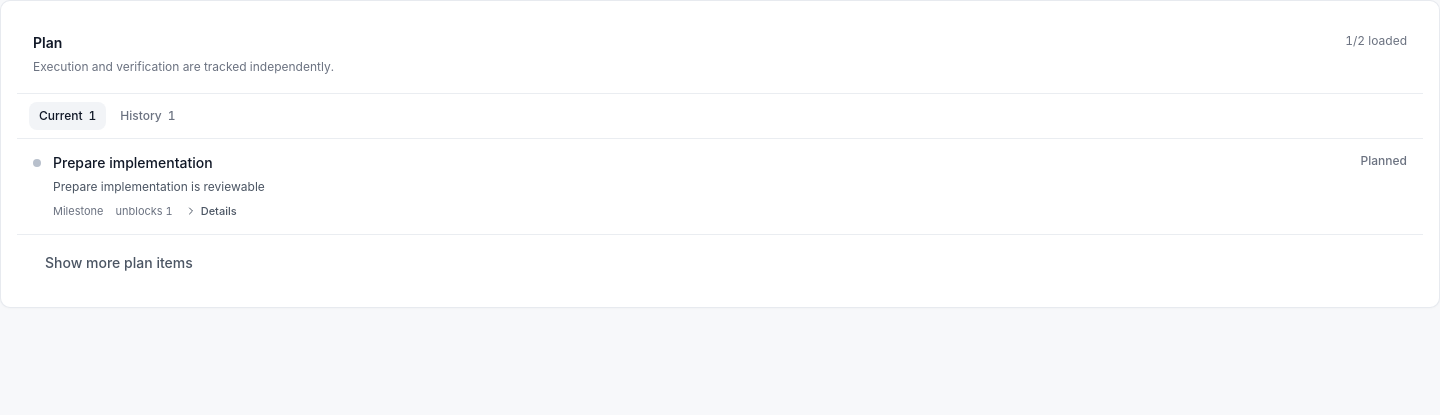
it: loads the exact pinned continuation and exposes dependency identities
Click the button "Show more plan items": (119, 262) [33, 246, 205, 278]
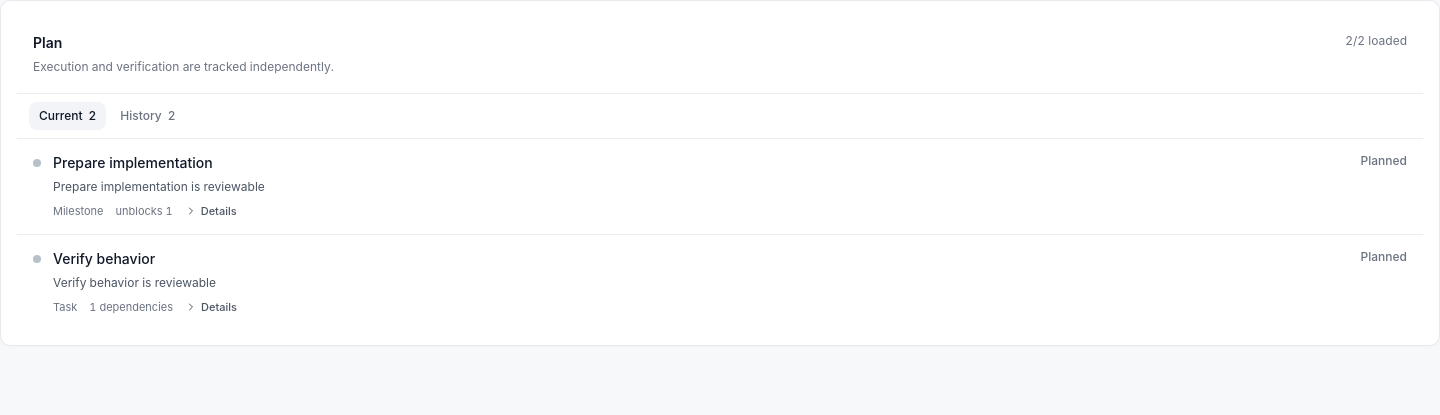
Now the text "Verify behavior" is shown, box [53, 248, 155, 268]
Click the button "Details" next to "dependencies": (211, 307) [185, 298, 237, 315]
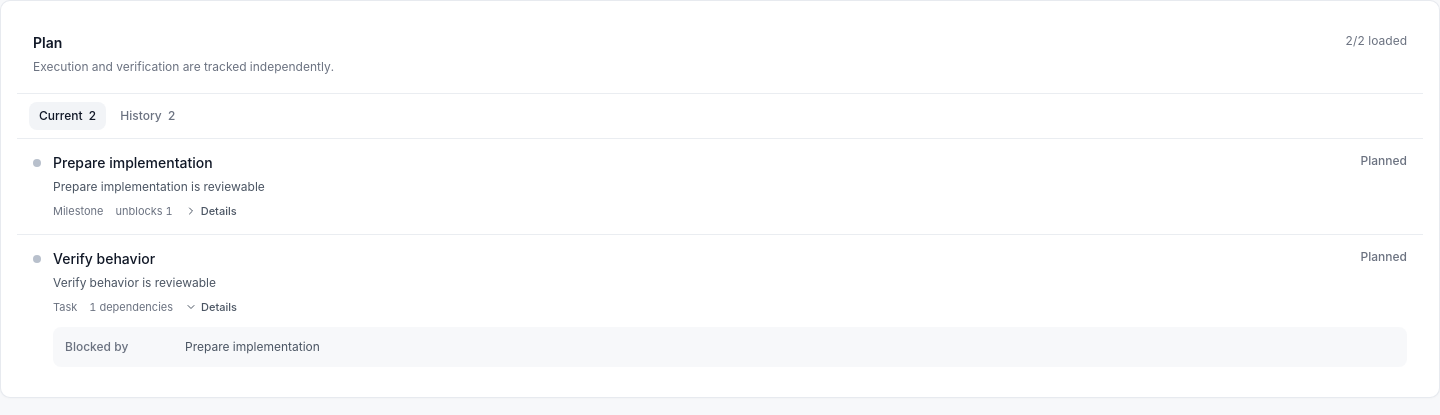
Now the text "Prepare implementation" is shown 2 times, box [53, 153, 213, 173]; [185, 339, 320, 354]
Now the text "Blocked by" is shown, box [65, 339, 128, 354]
